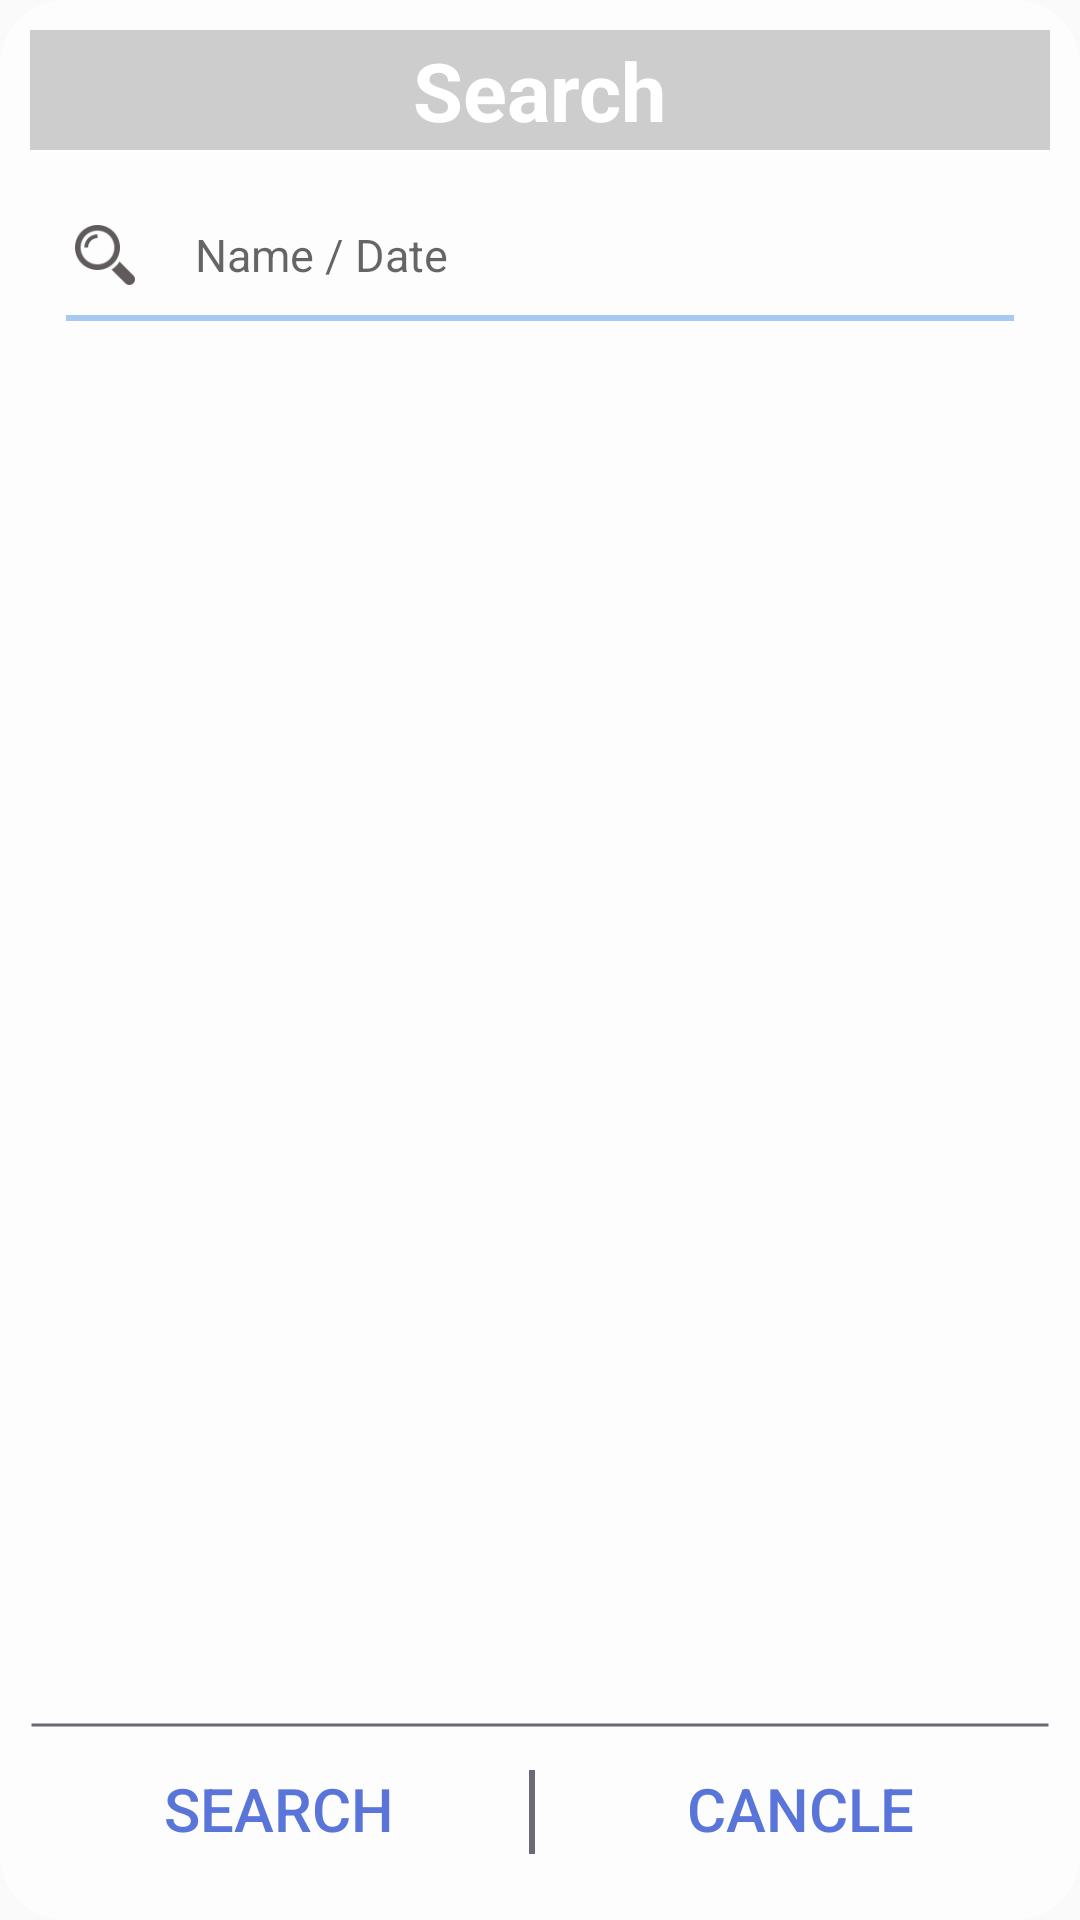

Locate icon controls on the screen. Image size 1080 × 1920, boxes as bbox=[x1, y1, x2, y2].
search blk: bbox=[75, 225, 135, 285]
